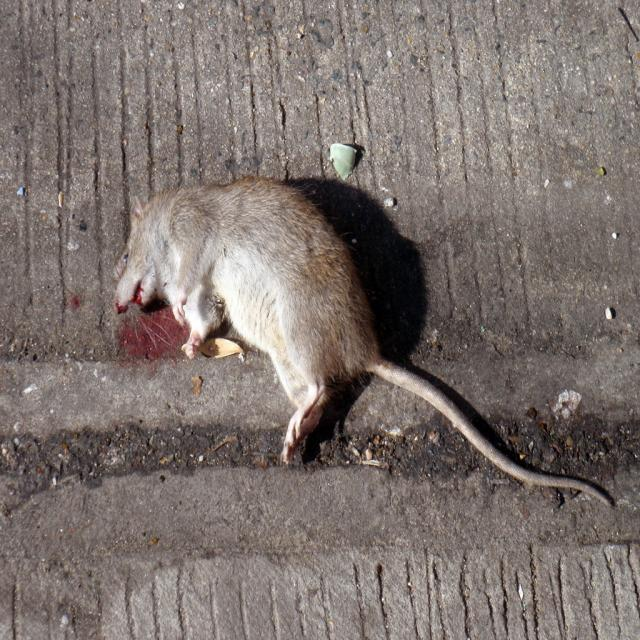rat: (112, 175, 613, 506)
